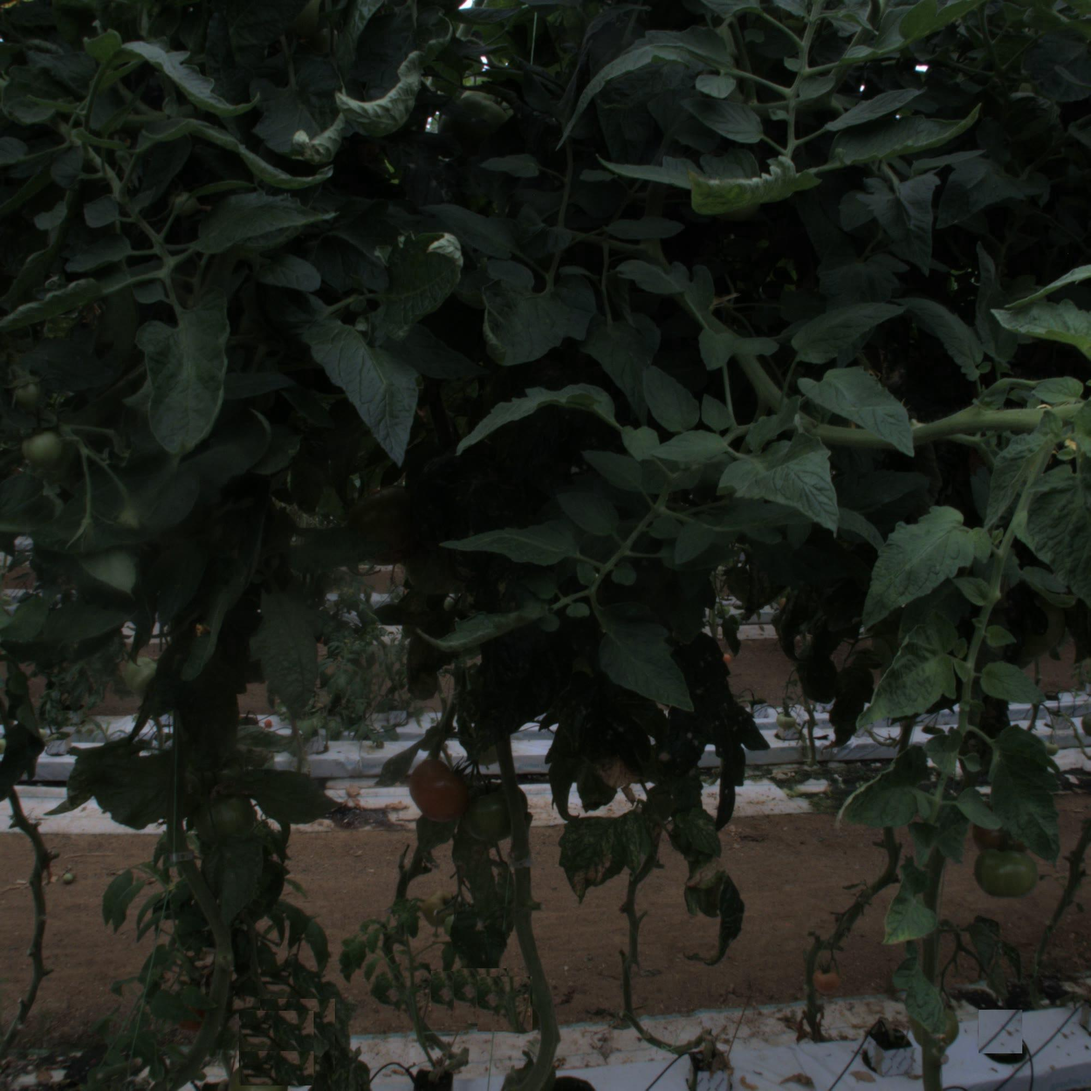['unripe', 'semi-ripe', 'fully-ripe']: (974, 834, 1040, 900), (460, 775, 525, 840)
